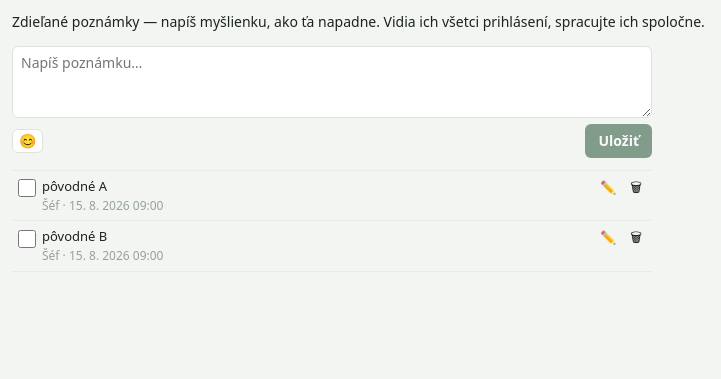
zlyhané blur-uloženie poznámky A po kliknutí na poznámku B nestratí text A — po znovuotvorení A sa vráti
This screenshot has width=721, height=379.
Click the text with test id "poznamka-body-n-a". click: (75, 186)
box: [42,177,107,195]
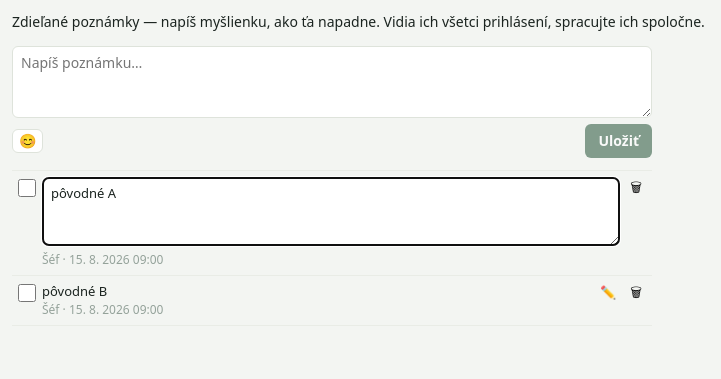
Replace the text in the text box with test id "poznamka-edit-input-n-a" with "opravené A". click: (331, 211)
box: [42,177,620,246]
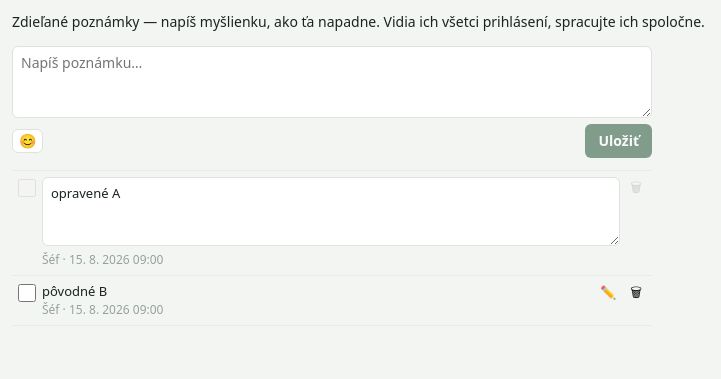
Click the text with test id "poznamka-body-n-b". click: (75, 291)
box: [42,282,107,300]
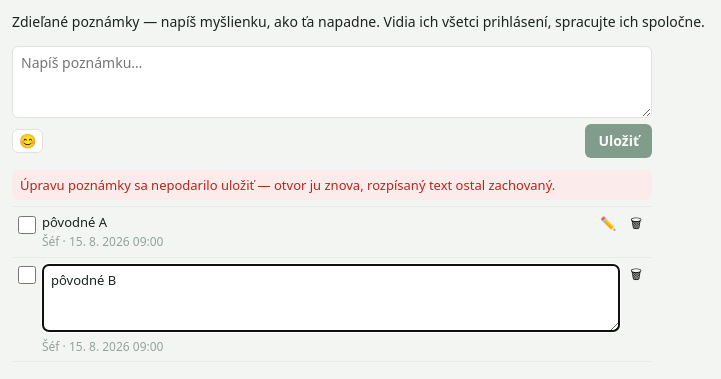
Result: the message shows "otvor ju znova" at [20,176,555,194]
Result: the text box with test id "poznamka-edit-input-n-b" is shown
Press Escape in the text box with test id "poznamka-edit-input-n-b", box [42,264,620,332]
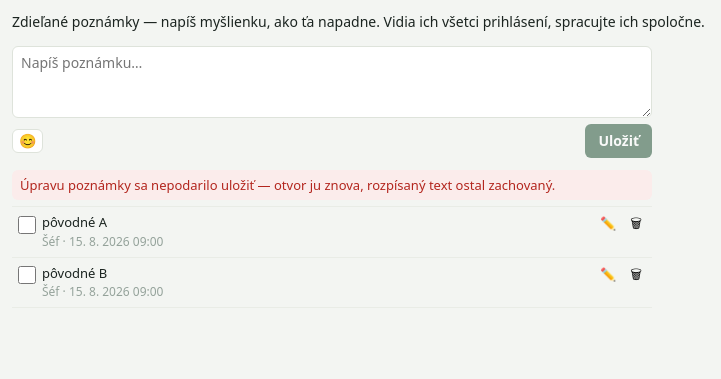
Result: the checkbox with test id "poznamka-resolve-n-a" is enabled at [18,216,36,234]
Click the text with test id "poznamka-body-n-a". click: (75, 222)
box: [42,213,107,231]
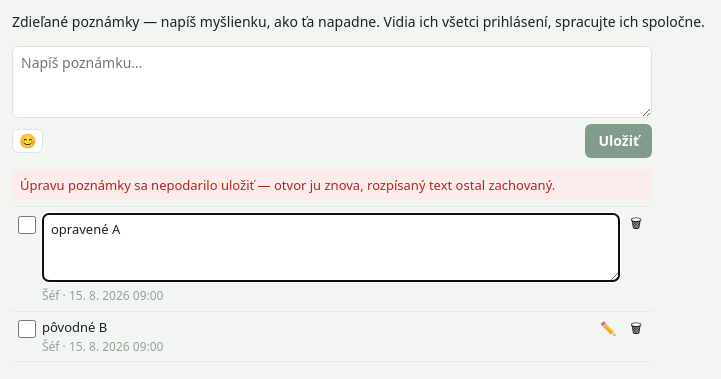
Result: the text box with test id "poznamka-edit-input-n-a" holds "opravené A" at [42,213,620,282]
